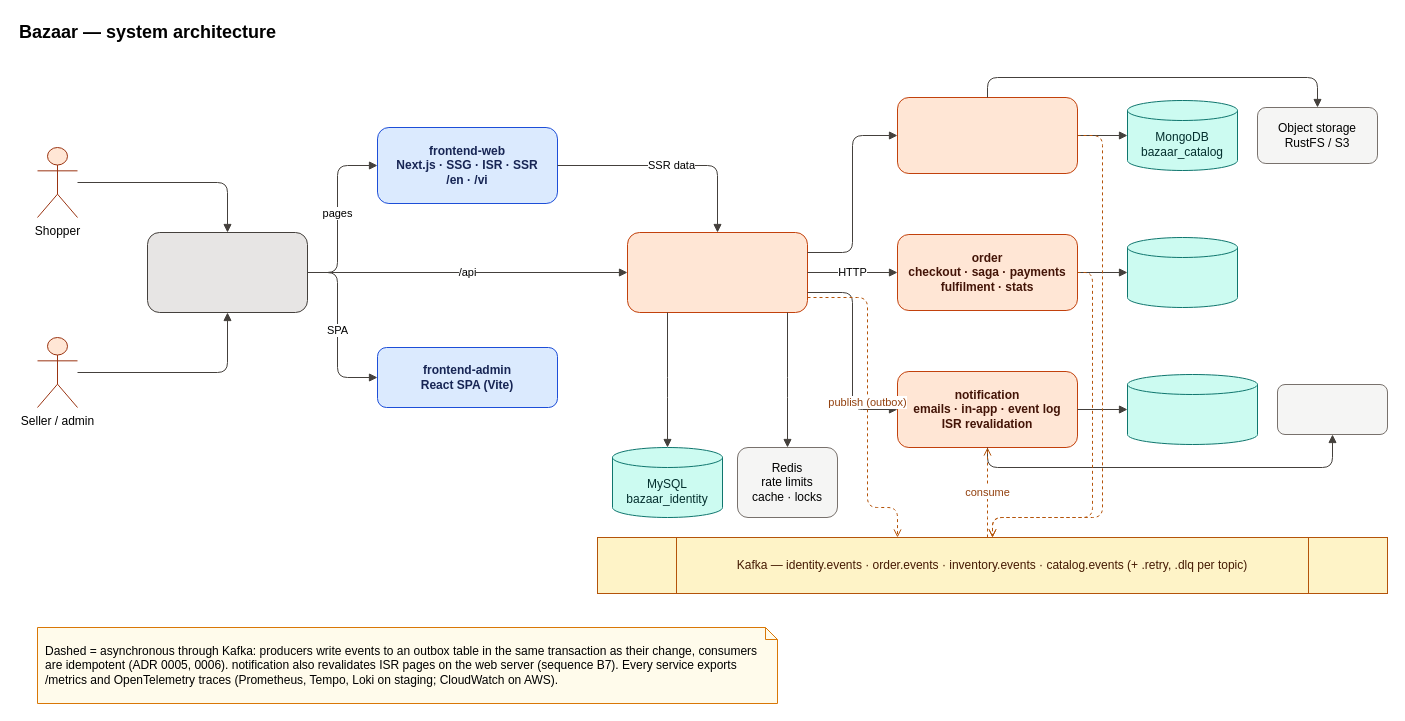
The diagram is 1405 pixels wide and 721 high, and some of its shapes have lost their labels. Here are the shapes that lost their labels. From the top down, the centre of each, then its label:
At (x=987, y=135): "catalog shops · products · stock images · reviews".
At (x=227, y=272): "Ingress Traefik (kind) CloudFront + ALB (AWS)".
At (x=717, y=272): "gateway BFF · identity · JWT/JWKS rate limits · checkout".
At (x=1182, y=272): "MySQL bazaar_order".
At (x=1192, y=409): "MongoDB bazaar_notification".
At (x=1332, y=409): "Mailpit / SES".
